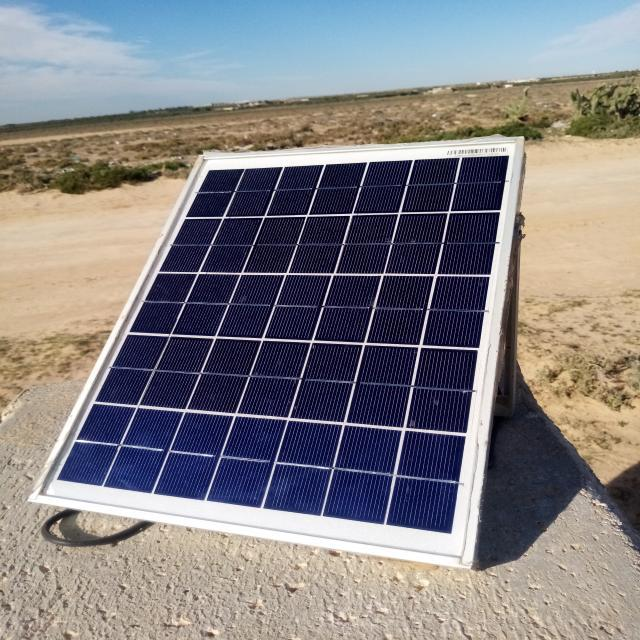no faulty: (33, 138, 521, 562)
